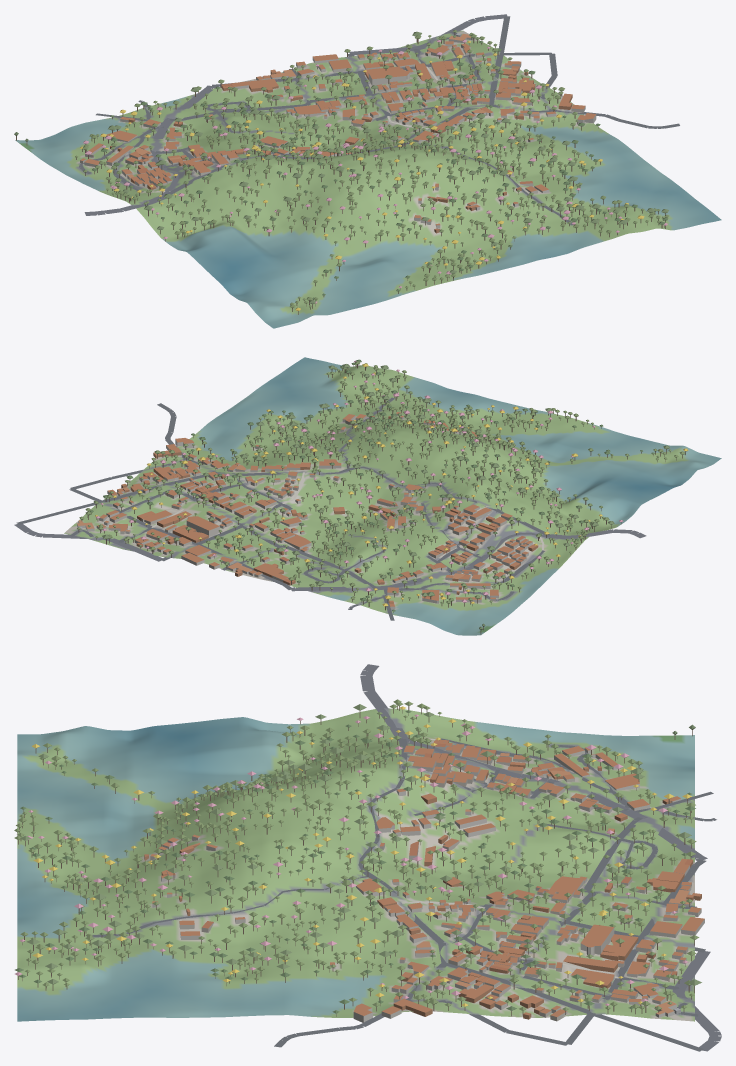
The model's file is mundo.glb.
The picture shows the model from 3 angles, top to bottom: view 1: azimuth 30°, elevation 25°; view 2: azimuth 150°, elevation 25°; view 3: azimuth 270°, elevation 25°; orthographic projection. The views are drawn at different scales.
Visible parts, largest first — view 1: terreno, arboles, edificios, vias; view 2: terreno, arboles, edificios, vias; view 3: terreno, arboles, edificios, vias.
Boxes of the visible parts, x1,y1,x2,y2 form: terreno: (15,30,721,328); arboles: (14,30,669,314); edificios: (80,33,596,233); vias: (79,14,679,225); terreno: (64,357,721,635); arboles: (77,359,688,634); edificios: (77,412,538,609); vias: (14,397,646,620); terreno: (17,708,694,1021); arboles: (14,699,701,1016); edificios: (144,739,704,1022); vias: (87,664,721,1051).
Bounding box in the file's own units: 749 × 72.82 × 627.
